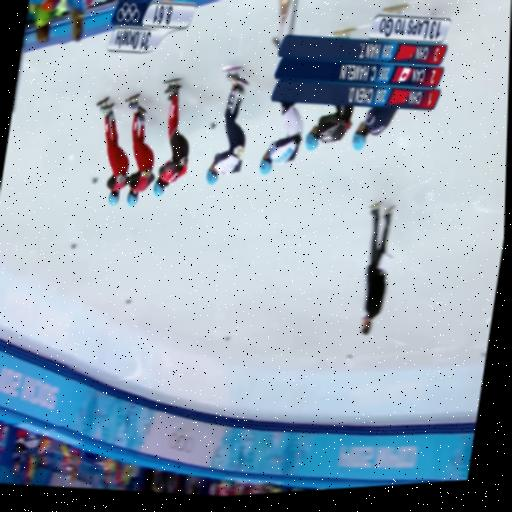Skater: (205, 72, 247, 184), (153, 77, 187, 196), (97, 98, 128, 204), (259, 101, 302, 173), (126, 94, 153, 205), (305, 104, 352, 149), (352, 106, 396, 149)
